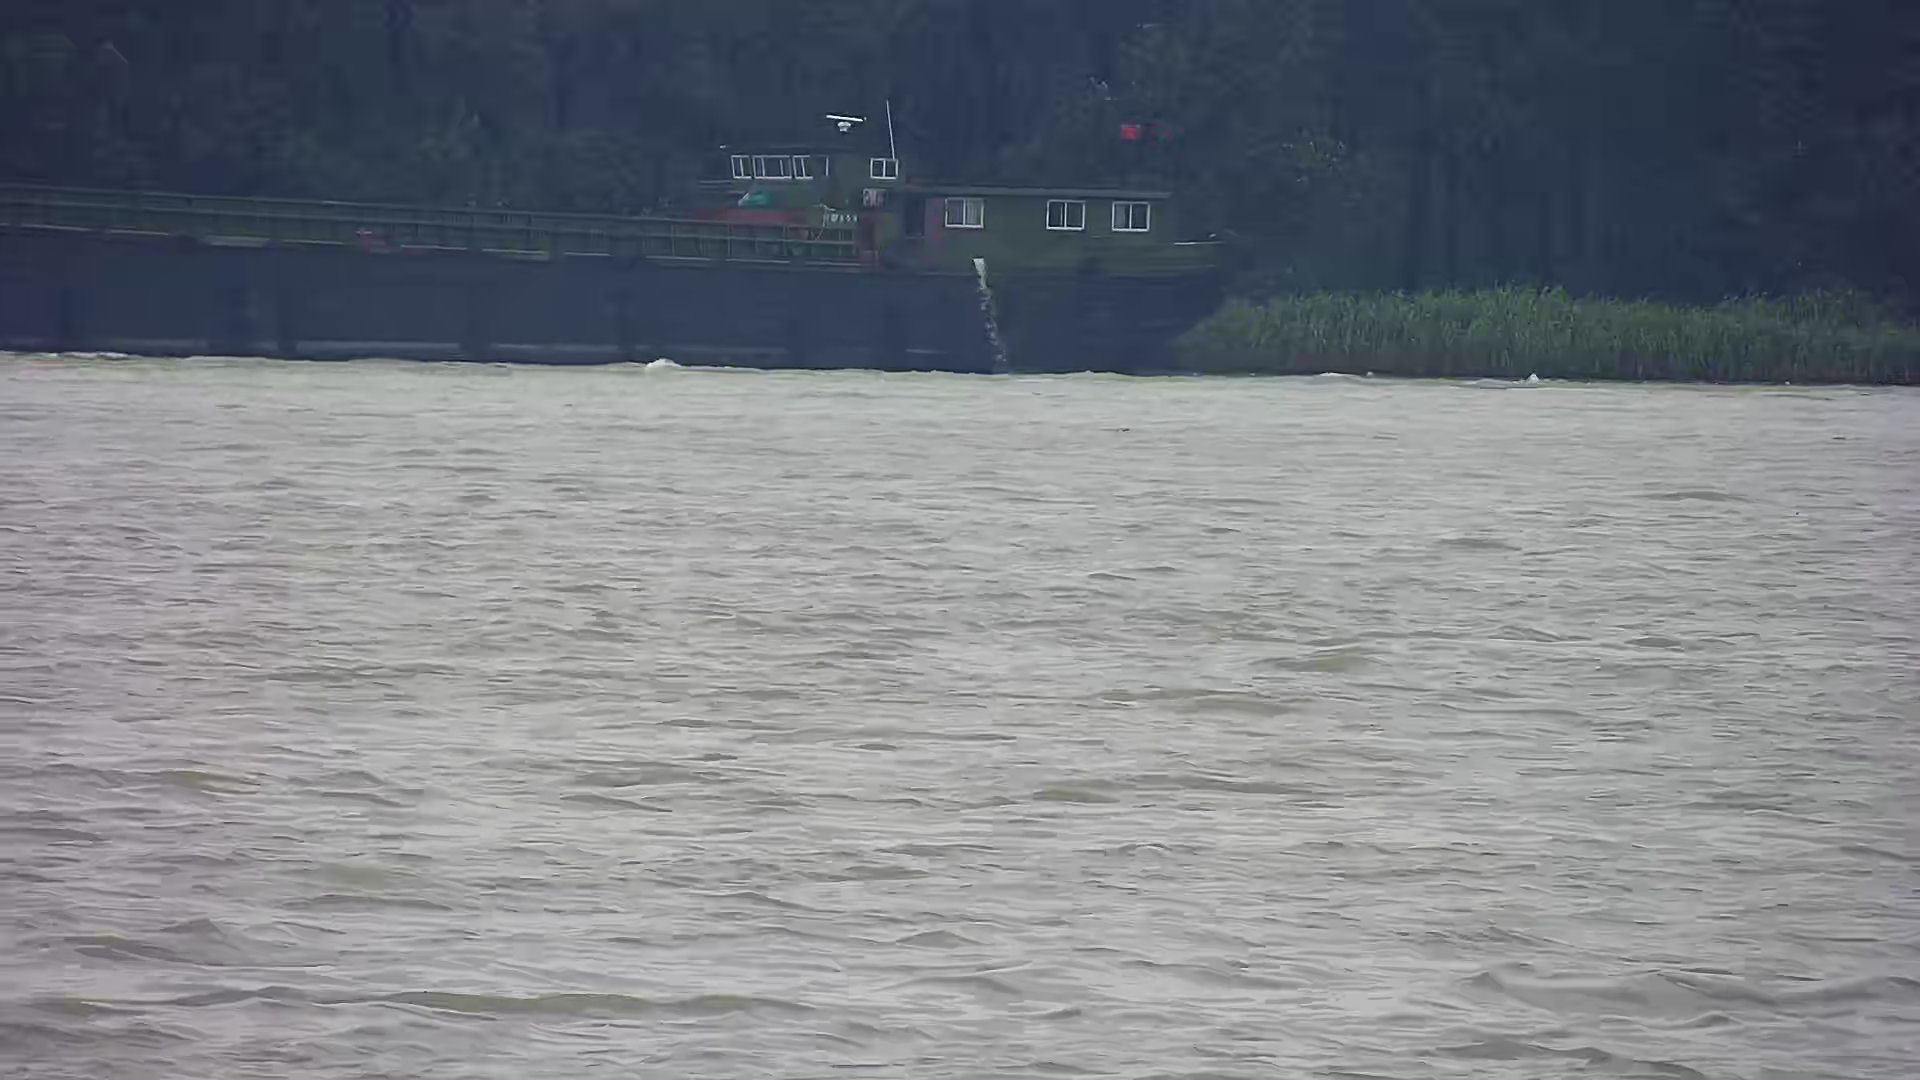ship: (1, 94, 1236, 386)
